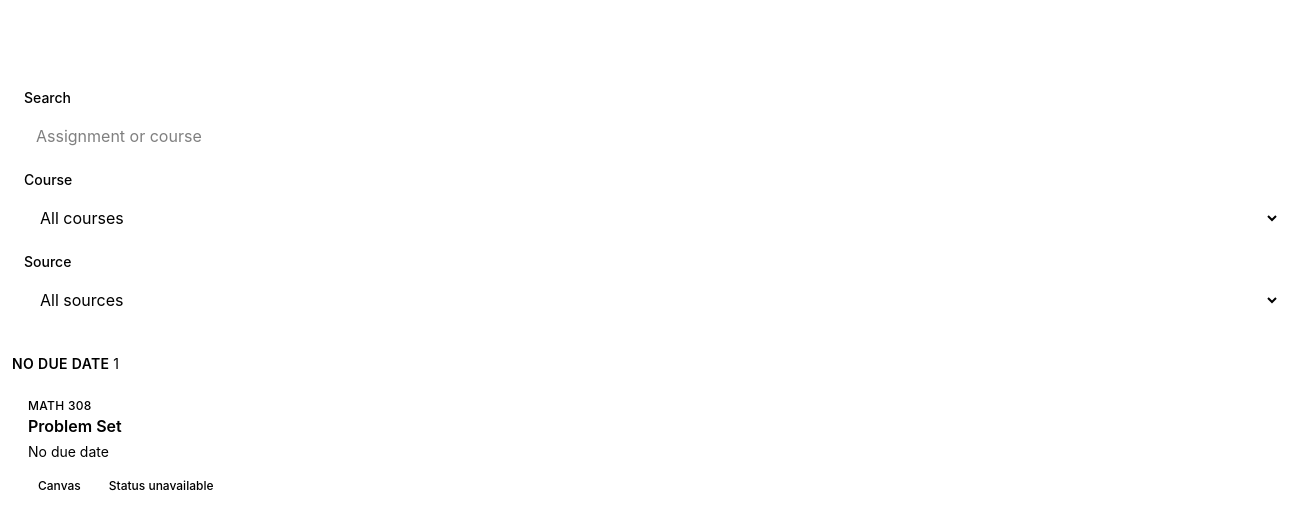
it: groups and filters upcoming assignments while showing submission status
Expected: the heading "No due date 1" is shown, [12,355,119,372]
Expected: the text "Status unavailable" is shown, [109,478,214,493]
Step 1. Select "CSE 331" in the dropdown labelled "Course" → (652, 218), box [24,196,1280,240]
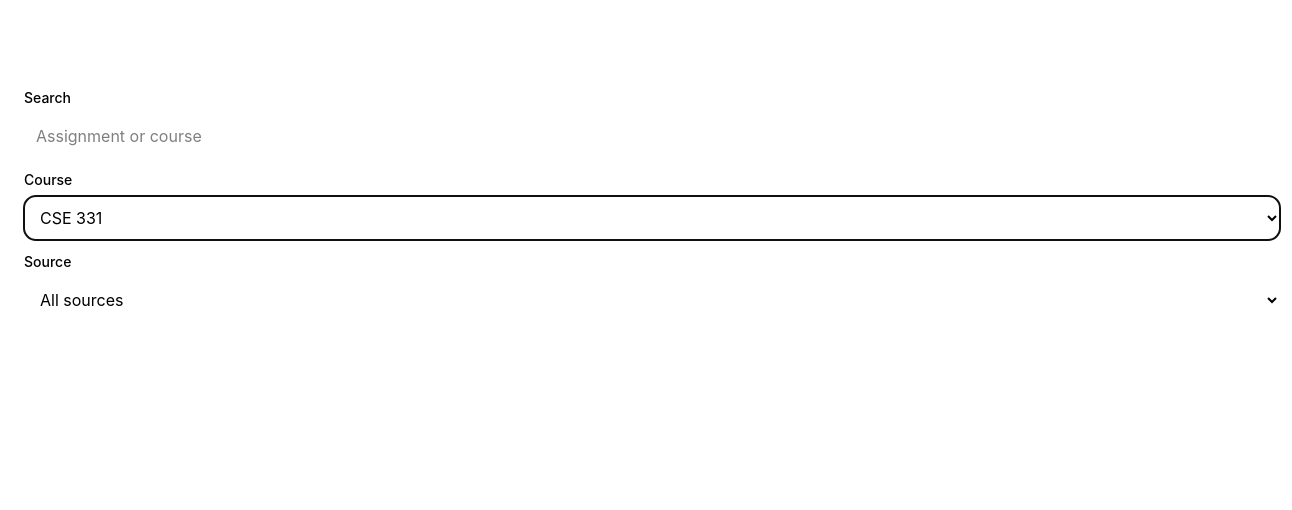
Now the button "Problem Set" is gone
